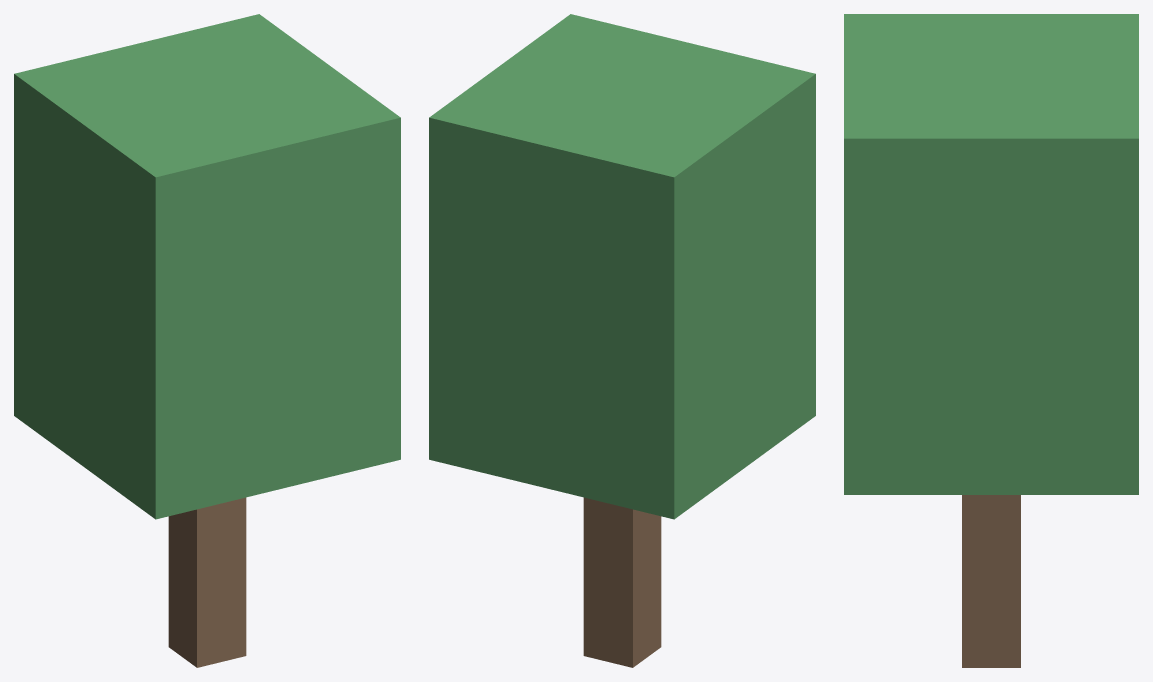
File: tree.glb
3 renders of one model, left to right at view 1: azimuth 30°, elevation 25°; view 2: azimuth 150°, elevation 25°; view 3: azimuth 270°, elevation 25°, orthographic. The views are drawn at different scales.
Size of the model in its own units: 3 by 6.5 by 3.
